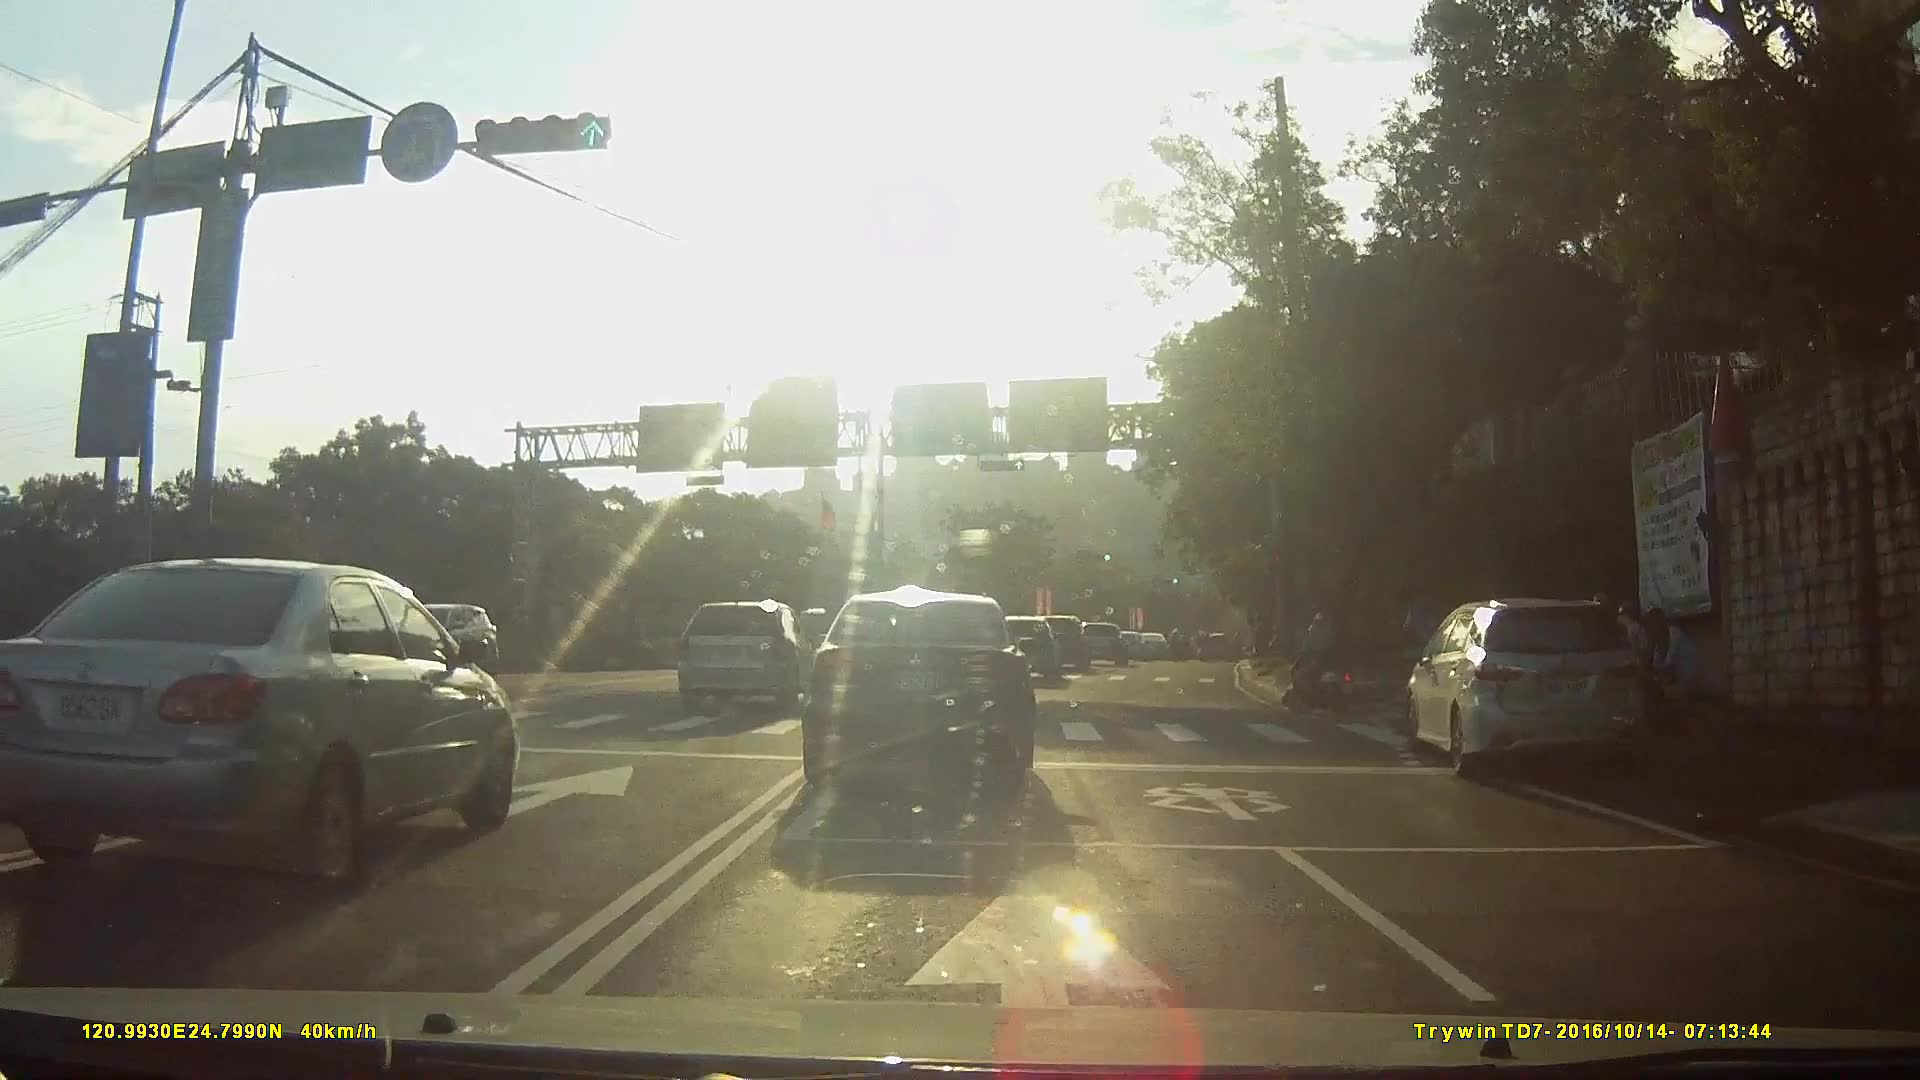pedestrian: (1643, 603, 1703, 713)
rider: (1281, 610, 1366, 715)
vehicle: (0, 561, 533, 894), (794, 596, 1062, 816), (1396, 599, 1674, 799), (131, 581, 339, 789), (688, 602, 836, 717), (339, 597, 490, 688), (1008, 619, 1082, 689), (1042, 617, 1104, 675), (1086, 623, 1139, 669), (1120, 631, 1159, 663), (1146, 635, 1179, 663)
